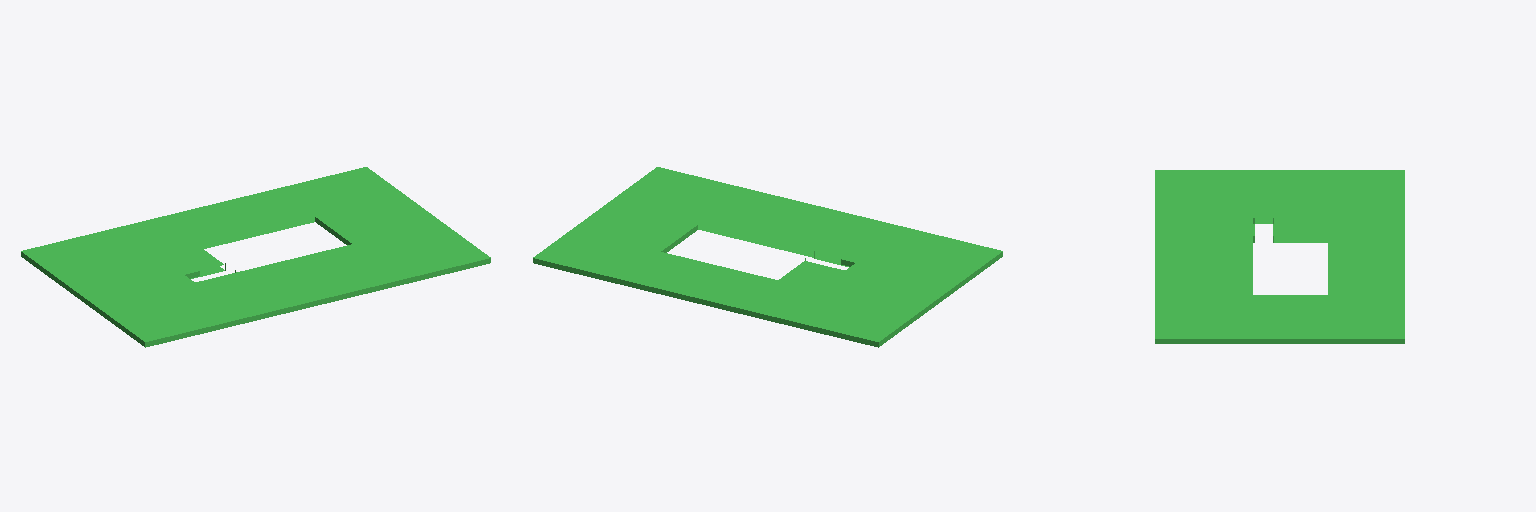
The model's file is floor.obj.
The picture shows the model from 3 angles: view 1: azimuth 30°, elevation 25°; view 2: azimuth 150°, elevation 25°; view 3: azimuth 270°, elevation 25°; orthographic projection.
Parts seen in each view (by area): view 1: Floor_Cube; view 2: Floor_Cube; view 3: Floor_Cube.
Part boxes in pixels (x1,y1,x2,y2): Floor_Cube: (21,167,490,347); Floor_Cube: (533,167,1002,347); Floor_Cube: (1155,170,1404,343).
Size of the model in its own units: 713 by 15.15 by 445.